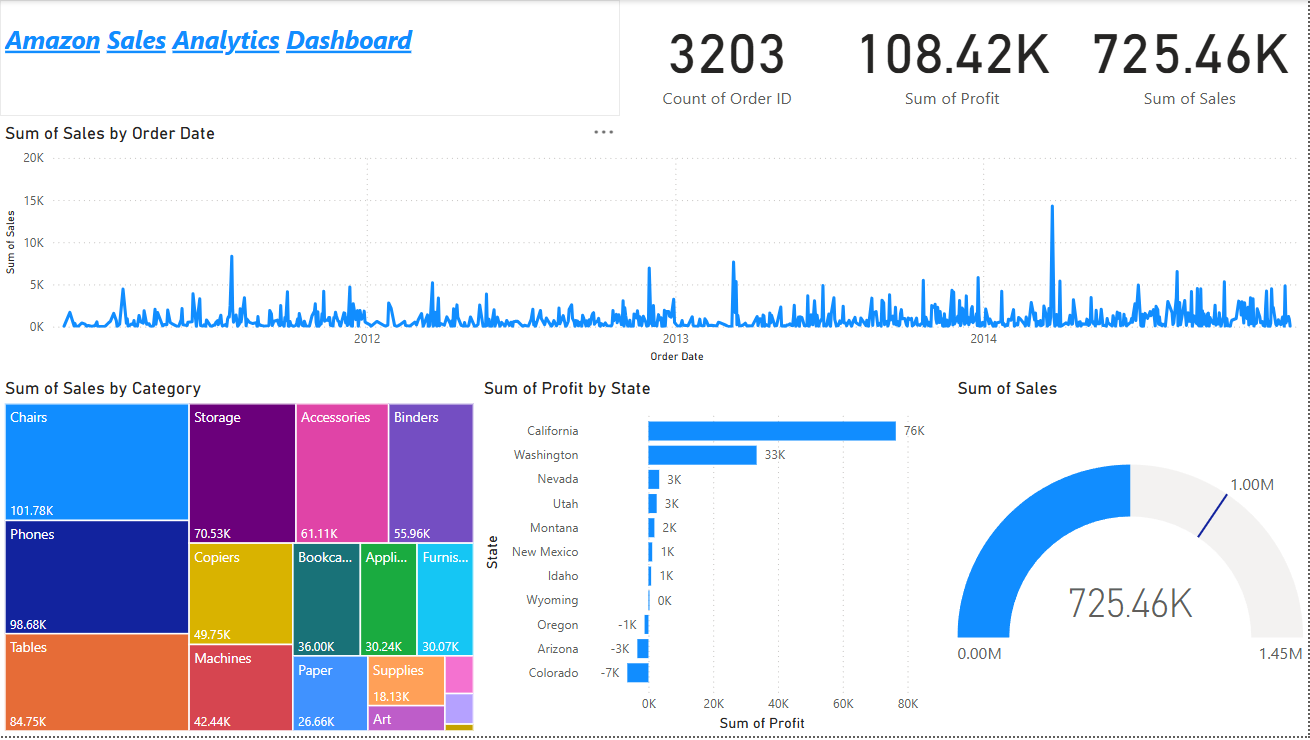

This screenshot's page, from the dashboard's own definition file:
{"tool":"powerbi","page":{"name":"Page 1","canvas":[1280,720],"ordinal":0},"visuals":[{"type":"card","fields":{"Values":["Sum(Walmart.Sales)"]},"box":[1048,0,232.3,113.7],"z":0},{"type":"card","fields":{"Values":["Sum(Walmart.Profit)"]},"box":[815.6,0,232.3,113.7],"z":1000},{"type":"card","fields":{"Values":["CountNonNull(Walmart.Order ID)"]},"box":[595.5,0,232.3,113.7],"z":2000},{"type":"lineChart","fields":{"Category":["Walmart.Order Date"],"Y":["Sum(Walmart.Sales)"]},"box":[0,119.8,1280.3,239.7],"z":3000},{"type":"treemap","fields":{"Group":["Walmart.Category"],"Values":["Sum(Walmart.Sales)"]},"box":[0,369.3,468.3,351],"z":4000},{"type":"barChart","fields":{"Category":["Walmart.State"],"Y":["Sum(Walmart.Profit)"]},"box":[468.3,369.3,463.5,351],"z":5000},{"type":"gauge","fields":{"Y":["Sum(Walmart.Sales)"]},"box":[931.8,369.3,348.2,350.7],"z":6000},{"type":"textbox","box":[0,0,606.5,113.7],"z":7000}]}

Visuals, with their boxes in screenshot pixels (x1, y1, x2, y2), scaled from the page's 1280x720 canvas onto the 1310x740 screenshot:
card - Sum(Walmart.Sales): 1073,0,1309,117
card - Sum(Walmart.Profit): 835,0,1072,117
card - CountNonNull(Walmart.Order ID): 609,0,847,117
lineChart - Walmart.Order Date x Sum(Walmart.Sales): 0,123,1309,369
treemap - Walmart.Category x Sum(Walmart.Sales): 0,380,479,739
barChart - Walmart.State x Sum(Walmart.Profit): 479,380,954,739
gauge - Sum(Walmart.Sales): 954,380,1309,739
textbox: 0,0,621,117
